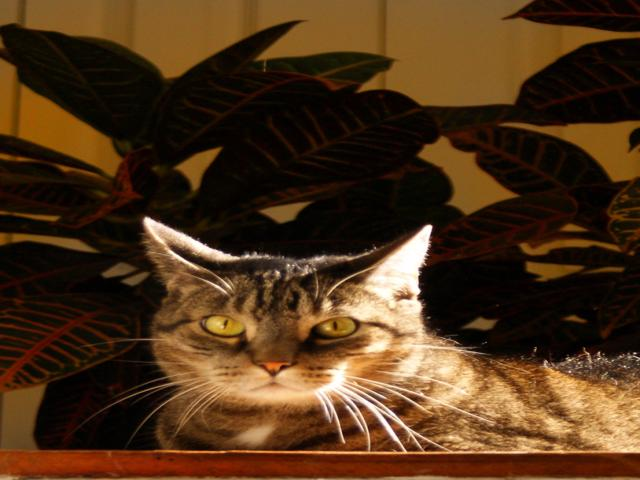Cat: (70, 210, 640, 455)
